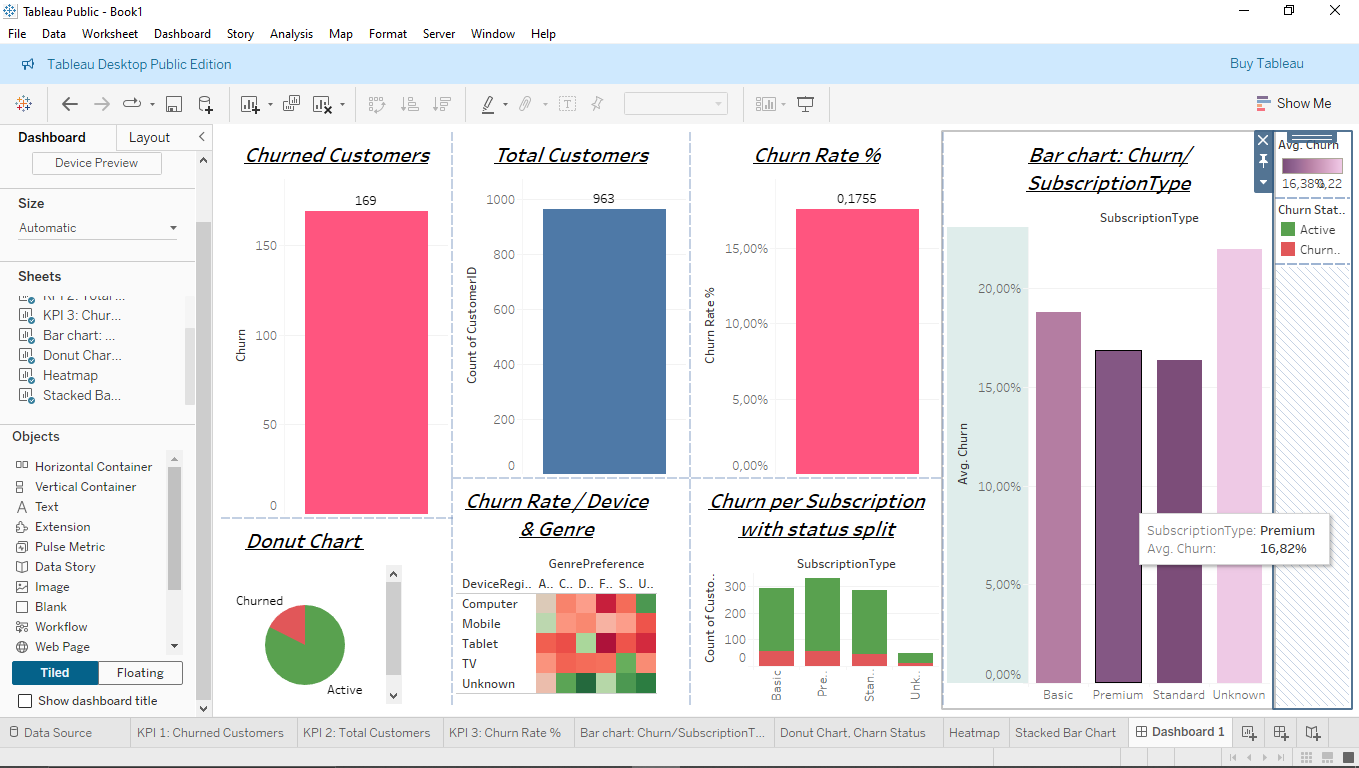

The dashboard page shown, as its layout file describes it:
{"tool":"tableau","page":{"name":"Dashboard 1","canvas":[1000,1000],"units":"permille","ordinal":0},"visuals":[{"type":"worksheet","title":"KPI 1: Churned Customers","mark":"Automatic","rows":["Churn"],"box":[7,13.5,201.5,652]},{"type":"worksheet","title":"KPI 2: Total Customers","mark":"Automatic","rows":["CustomerID"],"box":[208.5,13.5,207.9,584.5]},{"type":"worksheet","title":"KPI 3: Churn Rate %","mark":"Automatic","rows":["Calculation_492299758933377024"],"box":[416.4,13.5,220.6,584.5]},{"type":"worksheet","title":"Bar chart: Churn/SubscriptionType","mark":"Bar","rows":["Churn"],"cols":["SubscriptionType"],"box":[637,13.5,288.8,973]},{"type":"legend","title":"Bar chart: Churn/SubscriptionType","param":"[federated.0ujh2rk02jiakl16388991u4c66n].[avg:Churn:qk]","box":[925.8,13.5,67.2,109.8]},{"type":"legend","title":"Donut Chart, Charn Status ","param":"[federated.0ujh2rk02jiakl16388991u4c66n].[none:Calculation_492299758942400513:nk","box":[925.8,123.3,67.2,111.5]},{"type":"worksheet","title":"Heatmap","mark":"Square","rows":["DeviceRegistered"],"cols":["GenrePreference"],"box":[208.5,598,207.9,388.5]},{"type":"worksheet","title":"Stacked Bar Chart","mark":"Bar","rows":["CustomerID"],"cols":["SubscriptionType"],"box":[416.4,598,220.6,388.5]},{"type":"worksheet","title":"Donut Chart, Charn Status ","mark":"Pie","box":[7,665.5,201.5,320.9]}]}

Visuals, with their boxes on the dashboard's canvas, which has no fixed pixel size, in thousandths of its width and height (x1, y1, x2, y2). These are canvas units, not pixel positions in the 1359x768 screenshot, which may show the page scaled, cropped or inside an application window:
"KPI 1: Churned Customers" worksheet: box=[7, 14, 208, 666]
"KPI 2: Total Customers" worksheet: box=[208, 14, 416, 598]
"KPI 3: Churn Rate %" worksheet: box=[416, 14, 637, 598]
"Bar chart: Churn/SubscriptionType" worksheet (Bar marks): box=[637, 14, 926, 986]
"Bar chart: Churn/SubscriptionType" legend: box=[926, 14, 993, 123]
"Donut Chart, Charn Status " legend: box=[926, 123, 993, 235]
"Heatmap" worksheet (Square marks): box=[208, 598, 416, 986]
"Stacked Bar Chart" worksheet (Bar marks): box=[416, 598, 637, 986]
"Donut Chart, Charn Status " worksheet (Pie marks): box=[7, 666, 208, 986]
